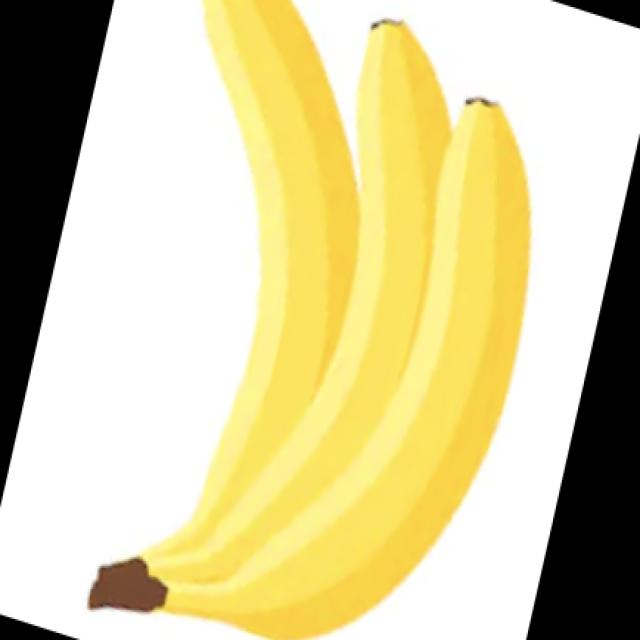god quality banana: (90, 2, 531, 638)
